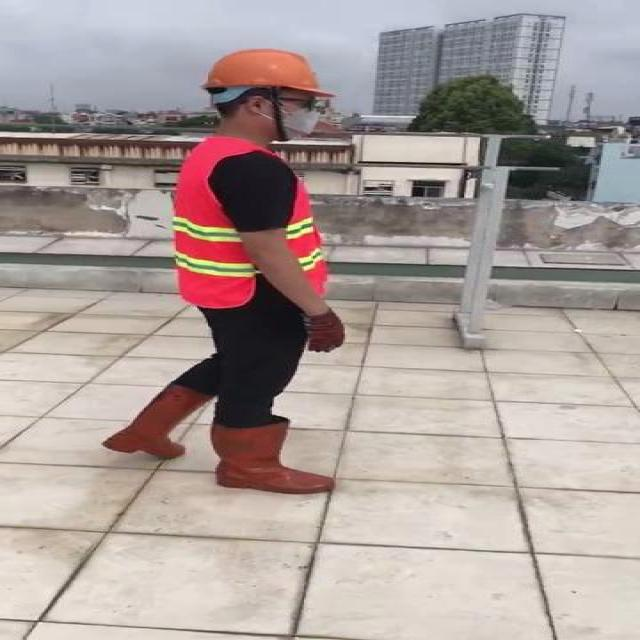boots: (213, 421, 338, 495), (101, 387, 215, 456)
face_mask: (270, 90, 331, 141)
hand_glove: (302, 312, 343, 352)
head_helmet: (199, 46, 340, 100)
person: (77, 42, 375, 498)
vest: (170, 140, 324, 306)
